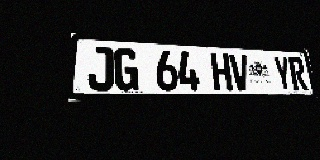4: (177, 51, 200, 91)
6: (155, 50, 179, 91)
G: (114, 48, 139, 91)
H: (210, 53, 233, 91)
J: (88, 46, 113, 91)
R: (288, 57, 308, 91)
V: (229, 54, 251, 91)
Y: (272, 56, 293, 91)
